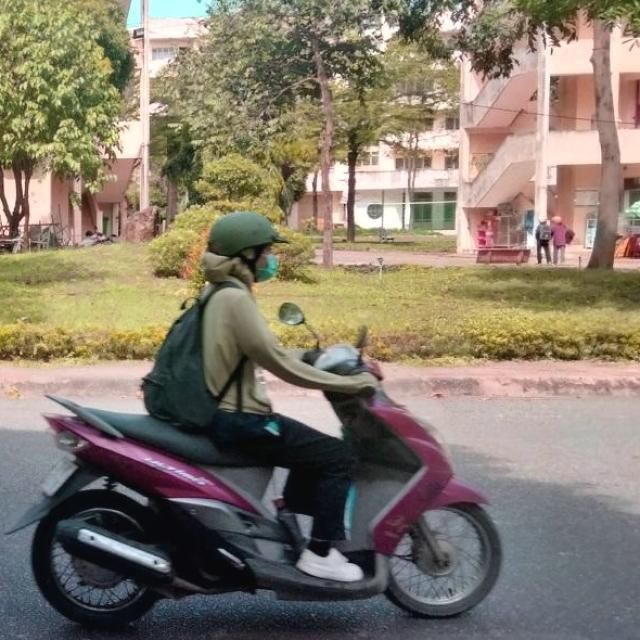Helmet: (206, 212, 288, 288)
